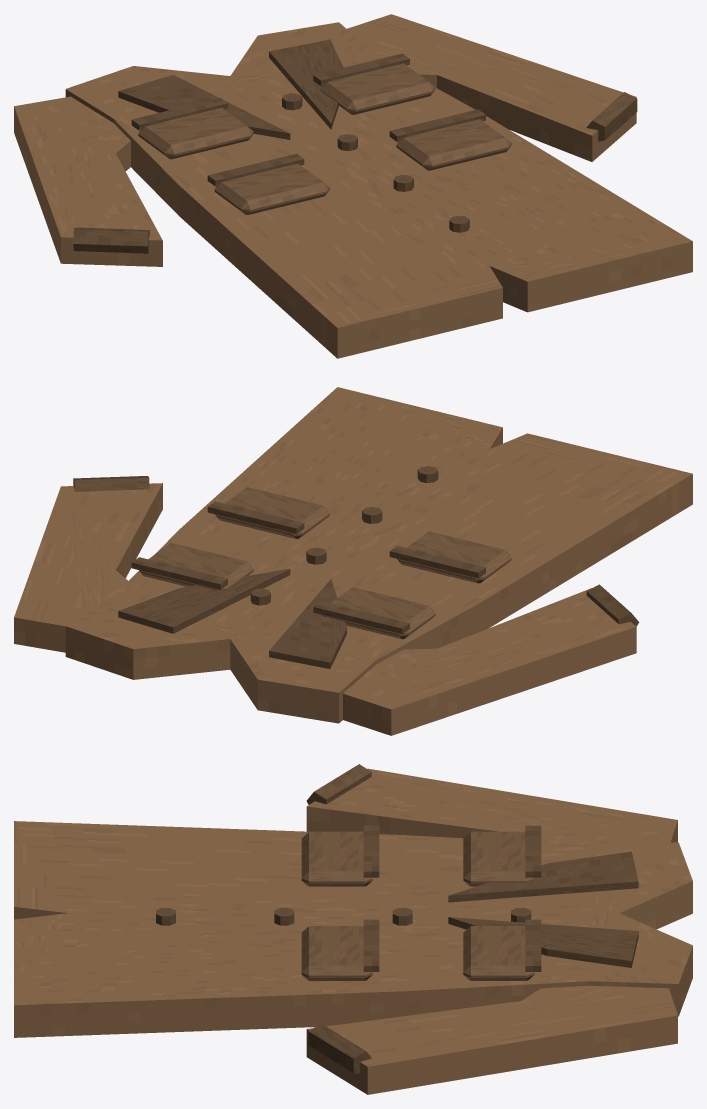
The model's file is duster_leather.glb.
3 renders of one model, top to bottom at view 1: azimuth 30°, elevation 25°; view 2: azimuth 150°, elevation 25°; view 3: azimuth 270°, elevation 25°, orthographic. The views are drawn at different scales.
Visible parts, largest first — view 1: block_coat body, block_sleeve (×2), block_patch pocket (×4), block_lapel (×2), block_pocket welt (×4), block_cuff 0 (×2); view 2: block_coat body, block_sleeve (×2), block_patch pocket (×4), block_lapel (×2), block_pocket welt (×4), block_cuff 0 (×2); view 3: block_coat body, block_sleeve (×2), block_patch pocket (×4), block_lapel (×2), block_pocket welt (×4), block_cuff 0 (×2).
Boxes of the visible parts, x1,y1,x2,y2 form: block_coat body: (65, 22, 692, 358); block_sleeve (×2): (14, 14, 636, 266); block_patch pocket (×4): (138, 63, 511, 214); block_lapel (×2): (118, 39, 343, 139); block_pocket welt (×4): (131, 53, 485, 186); block_cuff 0 (×2): (73, 92, 637, 253); block_coat body: (65, 387, 692, 723); block_sleeve (×2): (14, 483, 636, 735); block_patch pocket (×4): (139, 487, 511, 639); block_lapel (×2): (118, 568, 346, 668); block_pocket welt (×4): (131, 501, 485, 634); block_cuff 0 (×2): (73, 476, 639, 626); block_coat body: (14, 821, 692, 1037); block_sleeve (×2): (306, 768, 677, 1094); block_patch pocket (×4): (301, 831, 534, 980); block_lapel (×2): (448, 851, 638, 967); block_pocket welt (×4): (363, 825, 541, 971); block_cuff 0 (×2): (306, 764, 371, 1073).
Size of the model in its own units: 0.9086 by 0.0712 by 0.8741.
1 material, 1 textured.
